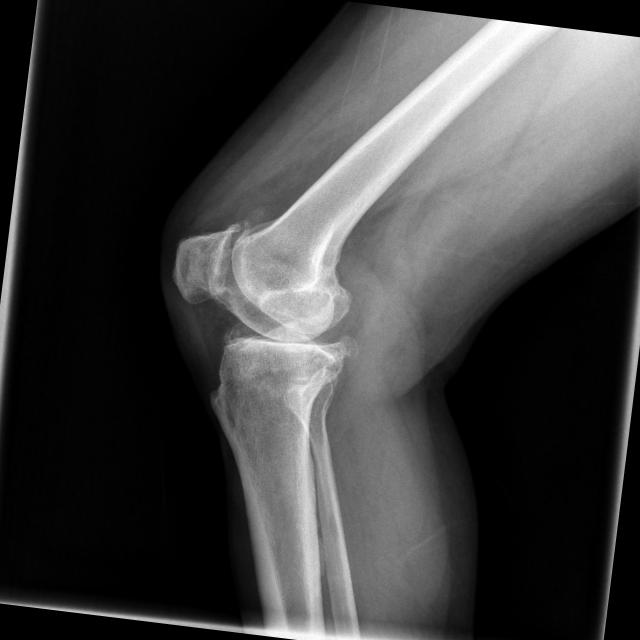Knee: (154, 214, 366, 416)
